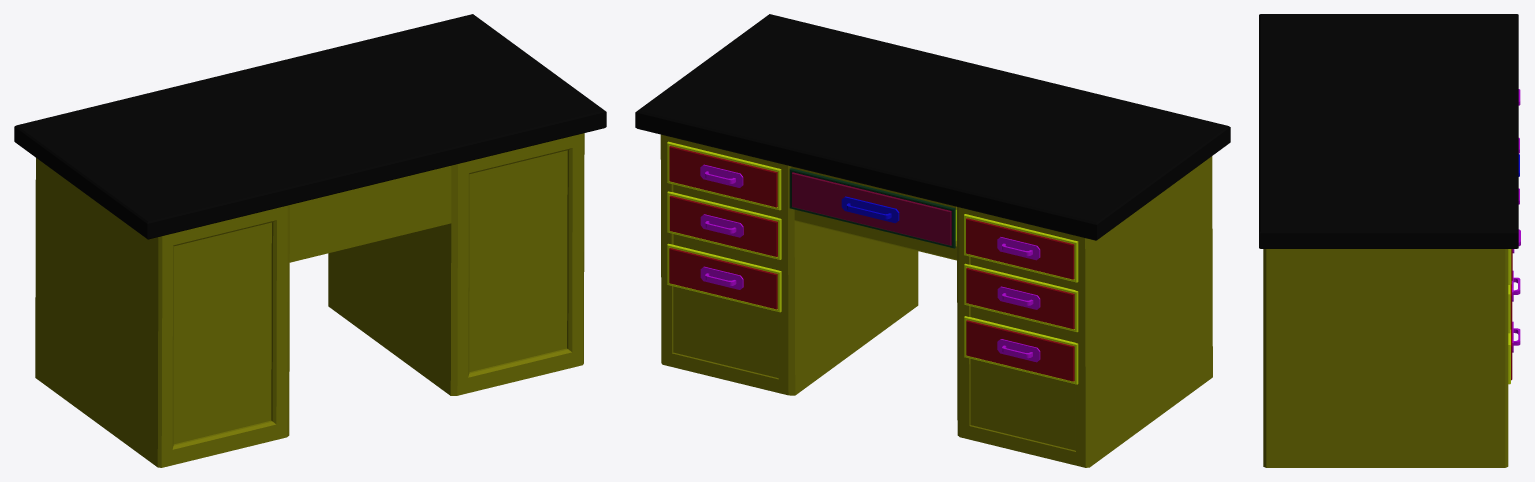
The model's file is SM_Desk.fbx.
3 views of the same model, side by side, from view 1: azimuth 30°, elevation 25°; view 2: azimuth 150°, elevation 25°; view 3: azimuth 270°, elevation 25° (orthographic). The views are drawn at different scales.
Parts seen in each view (by area): view 1: polySurface49; view 2: polySurface49, polySurface23, polySurface51, polySurface15, polySurface50, polySurface52, polySurface53, polySurface54; view 3: polySurface49, polySurface51, polySurface50.
Part boxes in pixels (x1=…): polySurface49: x1=14, y1=14, x2=606, y2=467; polySurface49: x1=635, y1=14, x2=1230, y2=467; polySurface23: x1=789, y1=168, x2=956, y2=248; polySurface51: x1=667, y1=243, x2=781, y2=312; polySurface15: x1=667, y1=141, x2=781, y2=210; polySurface50: x1=667, y1=191, x2=781, y2=259; polySurface52: x1=964, y1=316, x2=1078, y2=384; polySurface53: x1=964, y1=263, x2=1078, y2=332; polySurface54: x1=964, y1=214, x2=1078, y2=282; polySurface49: x1=1259, y1=14, x2=1518, y2=467; polySurface51: x1=1508, y1=302, x2=1520, y2=384; polySurface50: x1=1508, y1=270, x2=1520, y2=333.
Bounding box in the file's own units: 238 × 125 × 121.
